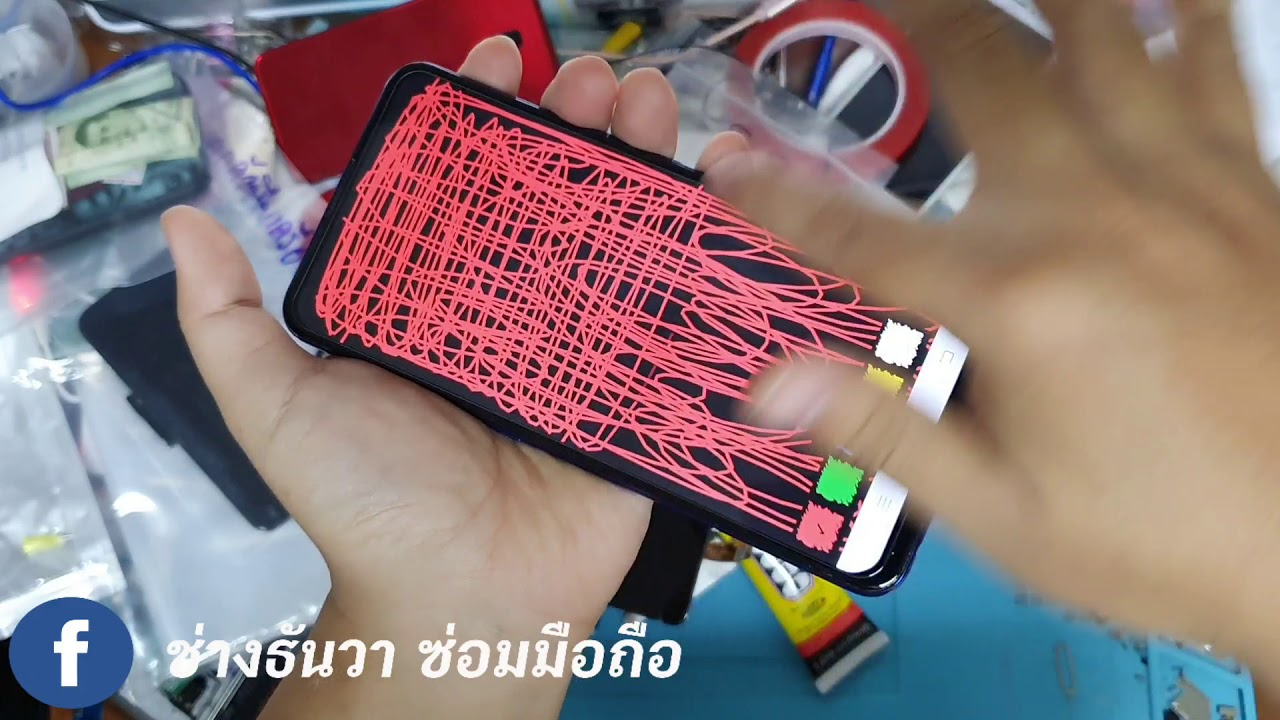phone: (274, 59, 979, 601)
